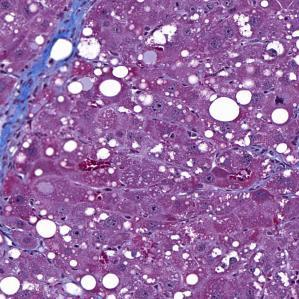fibrosis: (31, 0, 104, 78), (0, 64, 47, 159)
